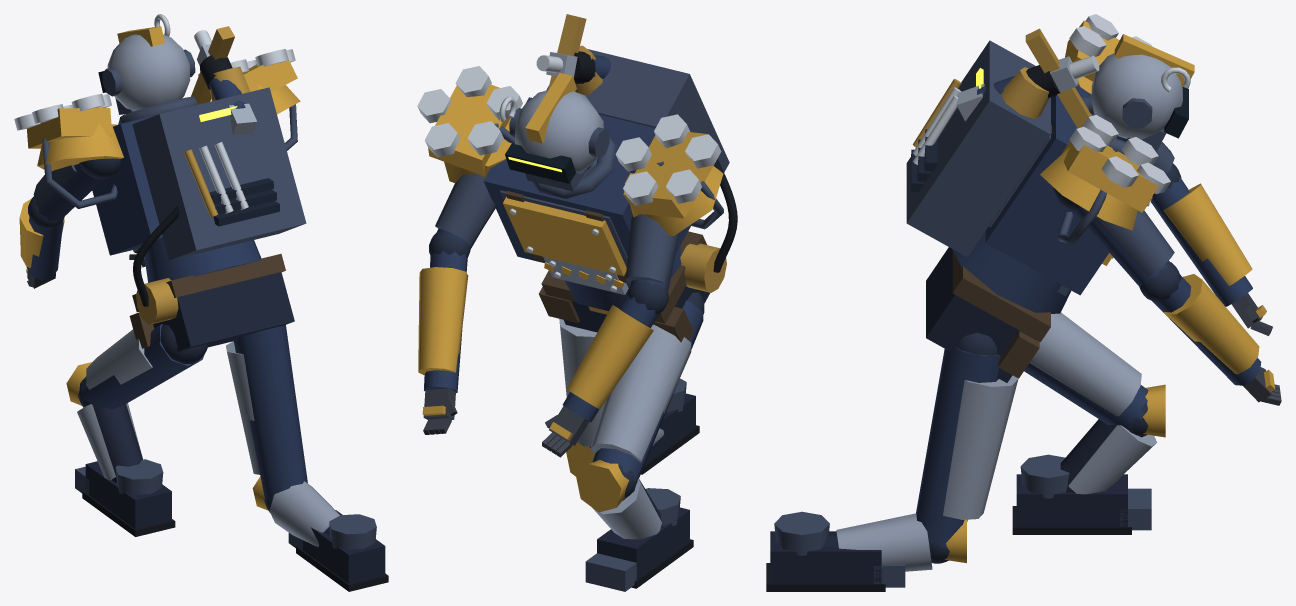
Rendered from hero_forge_revive.glb.
The picture shows the model from 3 angles, left to right: view 1: azimuth 30°, elevation 25°; view 2: azimuth 150°, elevation 25°; view 3: azimuth 270°, elevation 25°; orthographic projection. The views are drawn at different scales.
Visible parts, largest first — view 1: hero_forge_revive_pack_body, hero_forge_revive_thigh_r, hero_forge_revive_pelvis, hero_forge_revive_chest, hero_forge_revive_helmet, hero_forge_revive_thigh_l, hero_forge_revive_abdomen, hero_forge_revive_boot_l, hero_forge_revive_greave_r, hero_forge_revive_boot_r, hero_forge_revive_pauldron-1, hero_forge_revive_pauldron_heavy-1 (+35 smaller); view 2: hero_forge_revive_thigh_plate_l, hero_forge_revive_pack_body, hero_forge_revive_chest, hero_forge_revive_chest_plate_face, hero_forge_revive_bracer_r, hero_forge_revive_pauldron_bolts-1, hero_forge_revive_bracer_l, hero_forge_revive_helmet, hero_forge_revive_pauldron_bolts1, hero_forge_revive_pauldron_heavy-1, hero_forge_revive_pauldron_heavy1, hero_forge_revive_boot_l (+38 smaller); view 3: hero_forge_revive_pack_body, hero_forge_revive_chest, hero_forge_revive_thigh_plate_r, hero_forge_revive_thigh_r, hero_forge_revive_thigh_plate_l, hero_forge_revive_helmet, hero_forge_revive_pelvis, hero_forge_revive_boot_l, hero_forge_revive_bracer_r, hero_forge_revive_abdomen, hero_forge_revive_boot_r, hero_forge_revive_bracer_l (+31 smaller).
Boxes of the visible parts, bbox=[...] form: hero_forge_revive_pack_body: bbox=[132, 87, 306, 260]; hero_forge_revive_thigh_r: bbox=[233, 325, 307, 503]; hero_forge_revive_pelvis: bbox=[153, 272, 294, 351]; hero_forge_revive_chest: bbox=[92, 115, 162, 255]; hero_forge_revive_helmet: bbox=[107, 34, 190, 111]; hero_forge_revive_thigh_l: bbox=[81, 324, 204, 409]; hero_forge_revive_abdomen: bbox=[144, 238, 261, 282]; hero_forge_revive_boot_l: bbox=[85, 461, 171, 528]; hero_forge_revive_greave_r: bbox=[269, 481, 339, 546]; hero_forge_revive_boot_r: bbox=[303, 510, 385, 583]; hero_forge_revive_pauldron-1: bbox=[37, 123, 123, 171]; hero_forge_revive_pauldron_heavy-1: bbox=[27, 108, 112, 148]; hero_forge_revive_thigh_plate_l: bbox=[590, 324, 691, 462]; hero_forge_revive_pack_body: bbox=[546, 49, 729, 172]; hero_forge_revive_chest: bbox=[483, 97, 690, 284]; hero_forge_revive_chest_plate_face: bbox=[503, 197, 626, 276]; hero_forge_revive_bracer_r: bbox=[418, 267, 468, 375]; hero_forge_revive_pauldron_bolts-1: bbox=[615, 114, 721, 205]; hero_forge_revive_bracer_l: bbox=[566, 305, 653, 409]; hero_forge_revive_helmet: bbox=[515, 90, 603, 173]; hero_forge_revive_pauldron_bolts1: bbox=[417, 66, 522, 157]; hero_forge_revive_pauldron_heavy-1: bbox=[623, 132, 713, 218]; hero_forge_revive_pauldron_heavy1: bbox=[428, 84, 510, 175]; hero_forge_revive_boot_l: bbox=[597, 507, 689, 579]; hero_forge_revive_pack_body: bbox=[906, 40, 1050, 256]; hero_forge_revive_chest: bbox=[985, 84, 1109, 295]; hero_forge_revive_thigh_plate_r: bbox=[943, 375, 1018, 519]; hero_forge_revive_thigh_r: bbox=[916, 347, 1000, 547]; hero_forge_revive_thigh_plate_l: bbox=[1030, 312, 1141, 416]; hero_forge_revive_helmet: bbox=[1091, 53, 1182, 139]; hero_forge_revive_pelvis: bbox=[926, 247, 1035, 382]; hero_forge_revive_boot_l: bbox=[1016, 474, 1127, 526]; hero_forge_revive_bracer_r: bbox=[1164, 274, 1259, 374]; hero_forge_revive_abdomen: bbox=[952, 231, 1070, 313]; hero_forge_revive_boot_r: bbox=[770, 531, 881, 583]; hero_forge_revive_bracer_l: bbox=[1163, 183, 1252, 285].
Size of the model in its own units: 0.8588 by 1.49 by 1.3.
